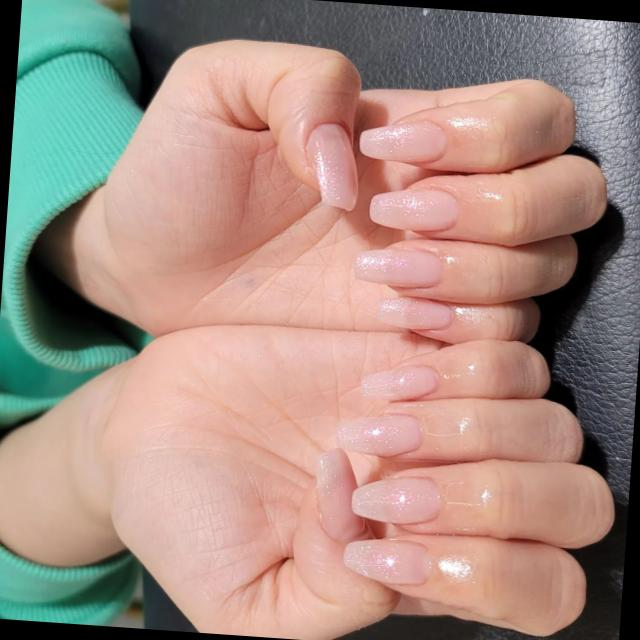Nail: (316, 446, 365, 540), (307, 121, 357, 209), (343, 537, 433, 584), (352, 475, 440, 522), (360, 119, 447, 162), (370, 187, 457, 230), (354, 247, 442, 286), (336, 413, 421, 453), (360, 364, 437, 399), (376, 297, 451, 328)
